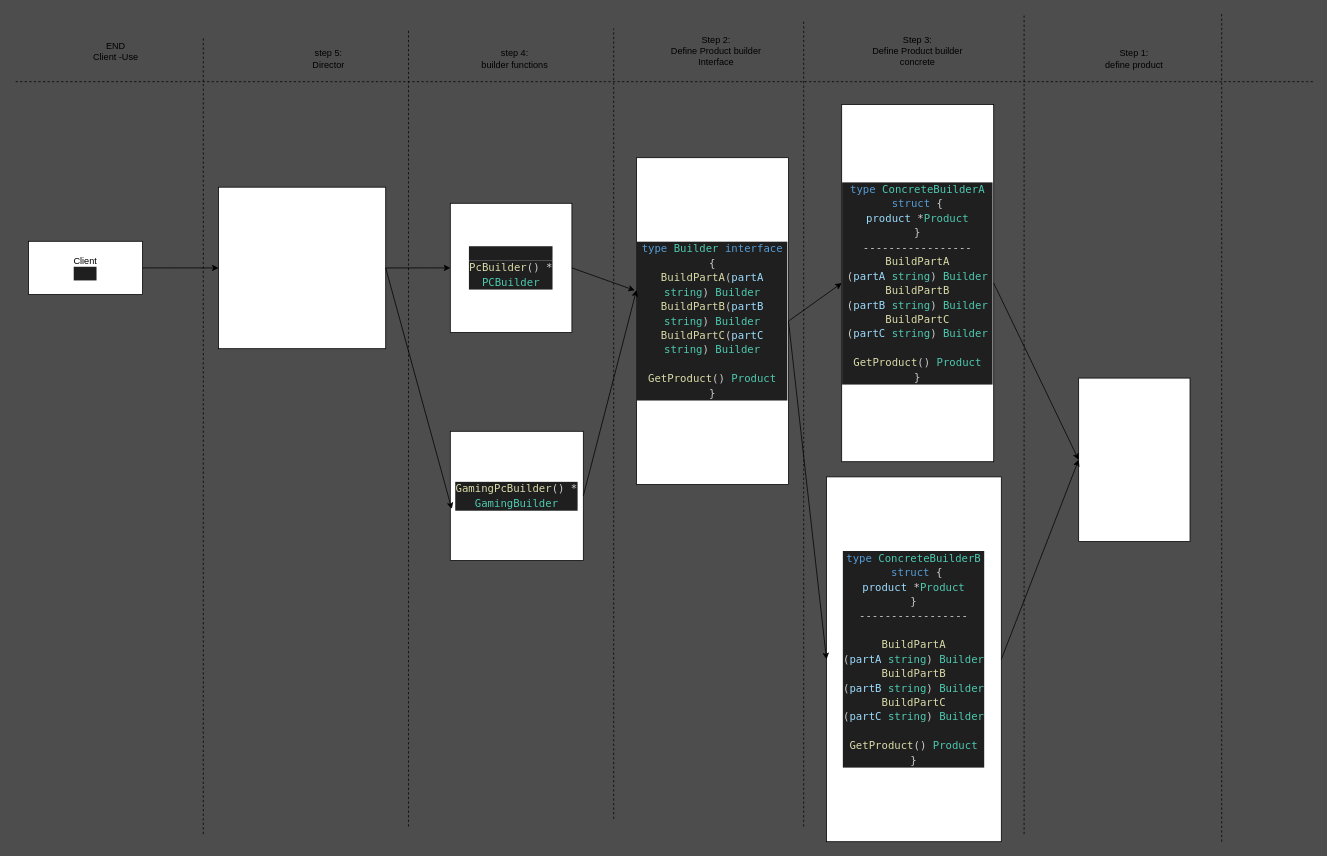
This 1327x856 diagram has some shape labels left out. The shapes that lost their labels are listed below. From the top down, each one's box as (x1, y1, x2, y2) in pixels, then its label:
(218, 186, 386, 349): Director () * ComputerBuilderInterface
(1078, 377, 1190, 542): type Product struct { PartA string PartB string PartC string }
